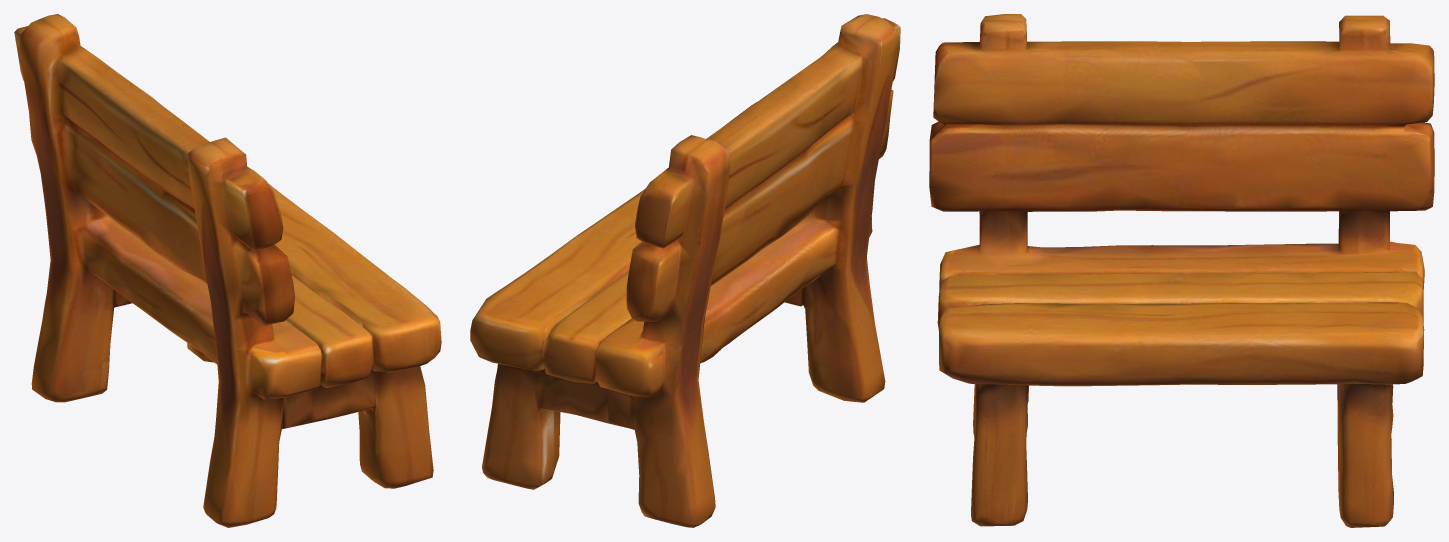
Rendered from bench.glb.
3 views of the same model, side by side, from view 1: azimuth 30°, elevation 25°; view 2: azimuth 150°, elevation 25°; view 3: azimuth 270°, elevation 25° (orthographic). The views are drawn at different scales.
Parts seen in each view (by area): view 1: model; view 2: model; view 3: model.
Part boxes in pixels (left/top/right/bottom): model: left=14, top=14, right=441, bottom=527; model: left=470, top=14, right=900, bottom=527; model: left=929, top=14, right=1434, bottom=527.
Size of the model in its own units: 1.13 by 1.76 by 2.
Materials: 1 (1 with a texture image).
